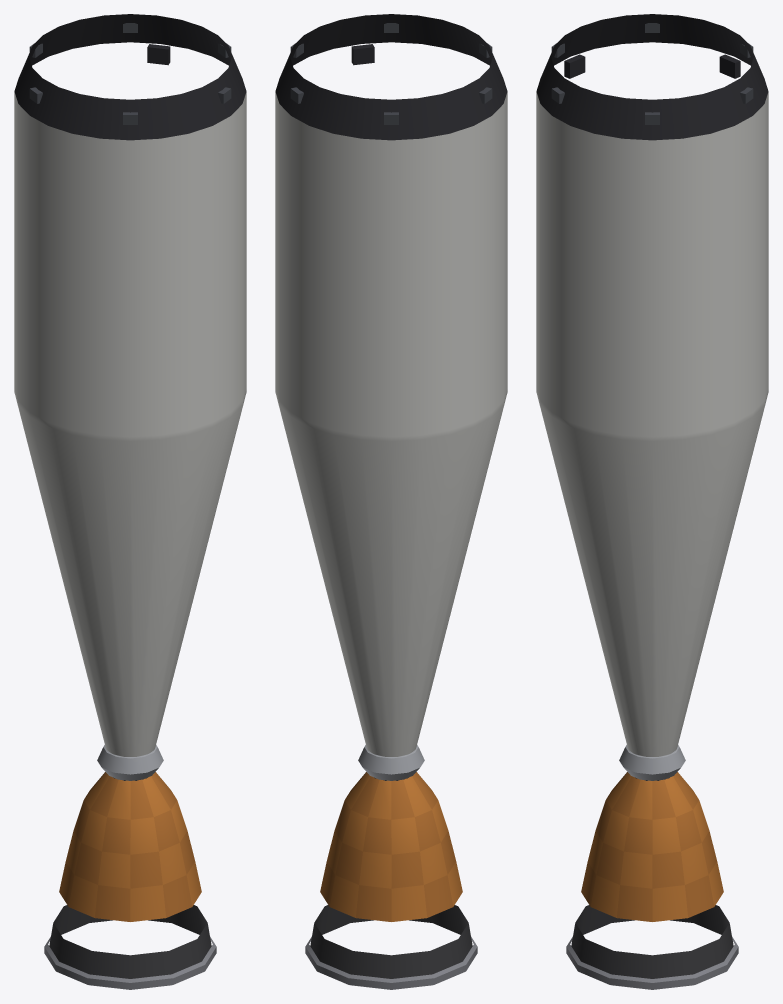
Rendered from upper.mid.glb.
3 views of the same model, side by side, from view 1: azimuth 30°, elevation 25°; view 2: azimuth 150°, elevation 25°; view 3: azimuth 270°, elevation 25° (orthographic).
Visible parts, largest first — view 1: upper.hull, upper.bell, upper.dark, upper.metal; view 2: upper.hull, upper.bell, upper.dark, upper.metal; view 3: upper.hull, upper.bell, upper.dark, upper.metal.
Part boxes in pixels (x1,y1,x2,y2): upper.hull: [14, 91, 246, 756]; upper.bell: [49, 772, 211, 978]; upper.dark: [14, 14, 246, 780]; upper.metal: [44, 745, 216, 989]; upper.hull: [275, 91, 507, 756]; upper.bell: [310, 772, 472, 978]; upper.dark: [275, 14, 507, 780]; upper.metal: [305, 745, 477, 989]; upper.hull: [536, 91, 768, 756]; upper.bell: [571, 772, 733, 978]; upper.dark: [536, 14, 768, 780]; upper.metal: [566, 745, 738, 989].
Bounding box in the file's own units: 3.66 × 15.63 × 3.66.
